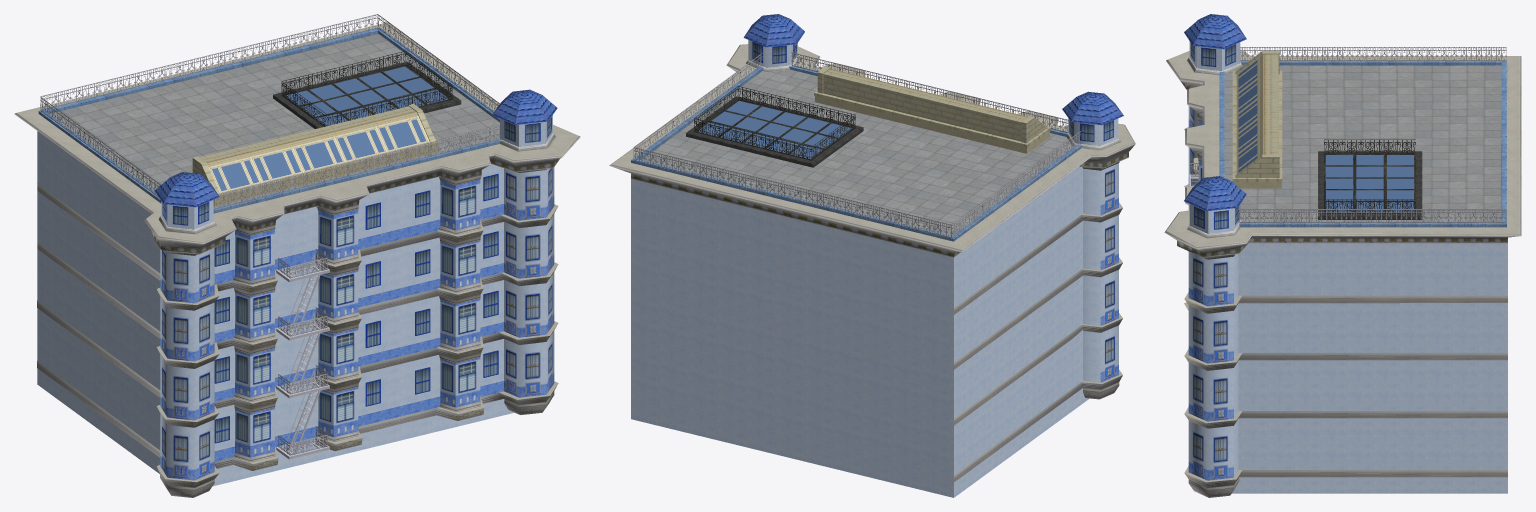
The model's file is BuilB.fbx.
The picture shows the model from 3 angles, left to right: view 1: azimuth 30°, elevation 25°; view 2: azimuth 150°, elevation 25°; view 3: azimuth 270°, elevation 25°; orthographic projection. The views are drawn at different scales.
Visible parts, largest first — view 1: ct2_01_n2_yc1_builB_01; view 2: ct2_01_n2_yc1_builB_01; view 3: ct2_01_n2_yc1_builB_01.
Part boxes in pixels (box(x1,y1,x2,y2)): ct2_01_n2_yc1_builB_01: box(14, 14, 580, 497); ct2_01_n2_yc1_builB_01: box(609, 14, 1135, 497); ct2_01_n2_yc1_builB_01: box(1164, 14, 1521, 497).
Bounding box in the file's own units: 2709 × 1943 × 2020.
